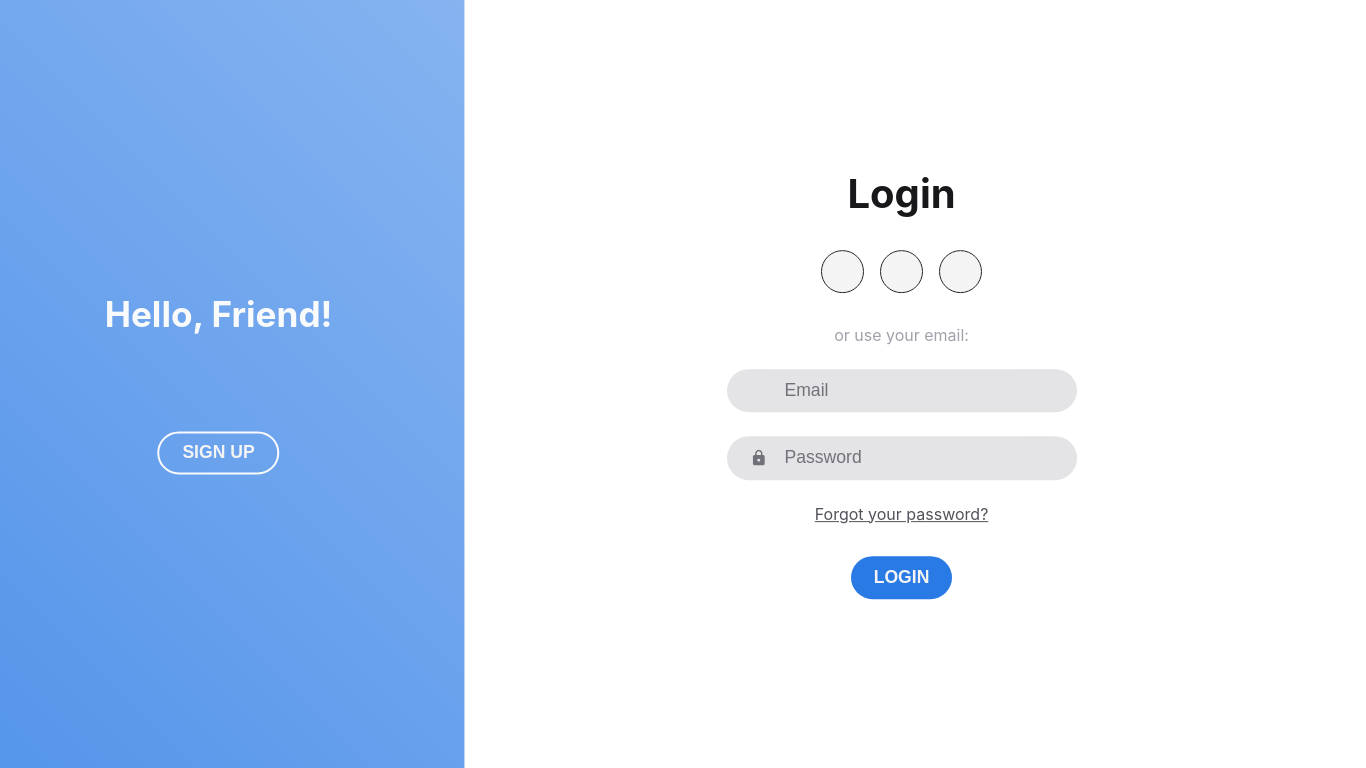
Test: Auth: toggle twice
Click the button "Sign Up" at (219, 453), box [158,431,280,475]
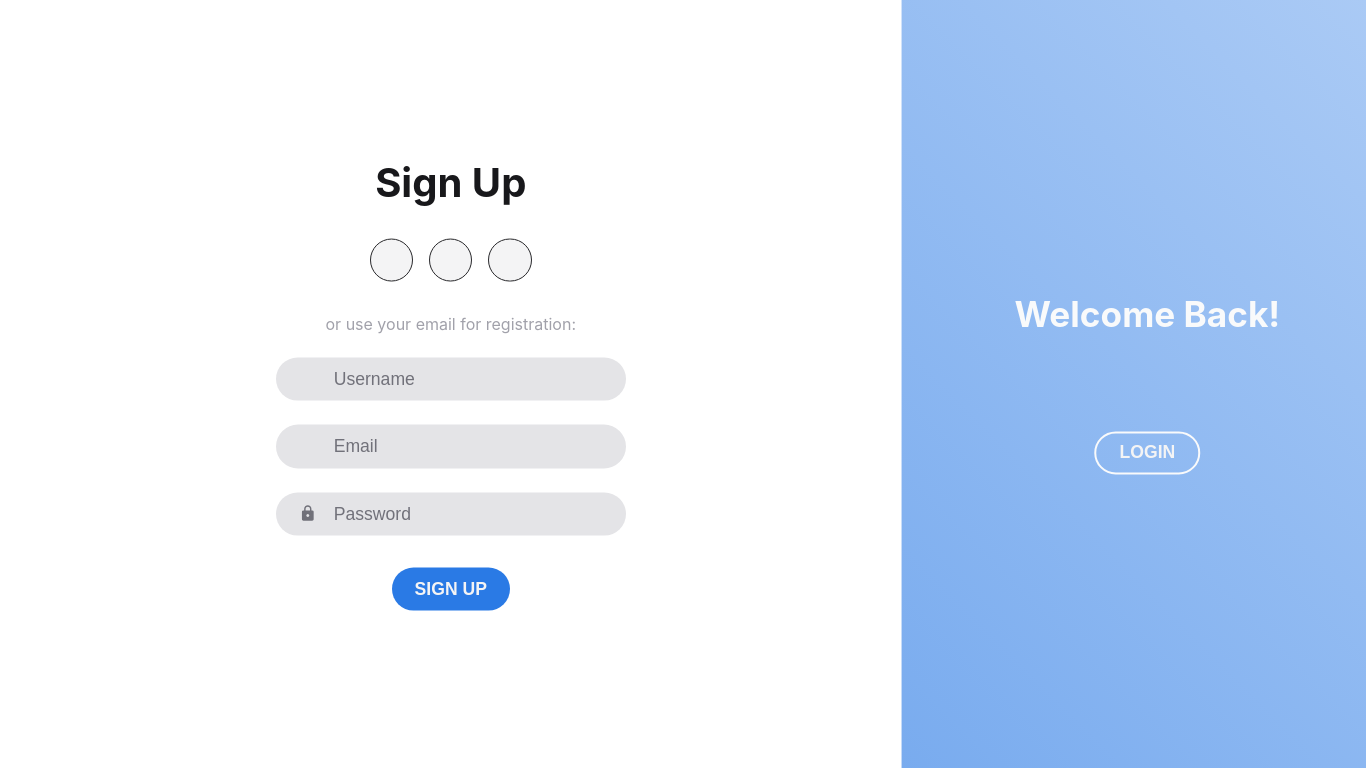
Expected: the heading "Sign Up" is shown, [375,158,526,206]
Click the button "Login" at (1147, 453), box [1095,431,1200,475]
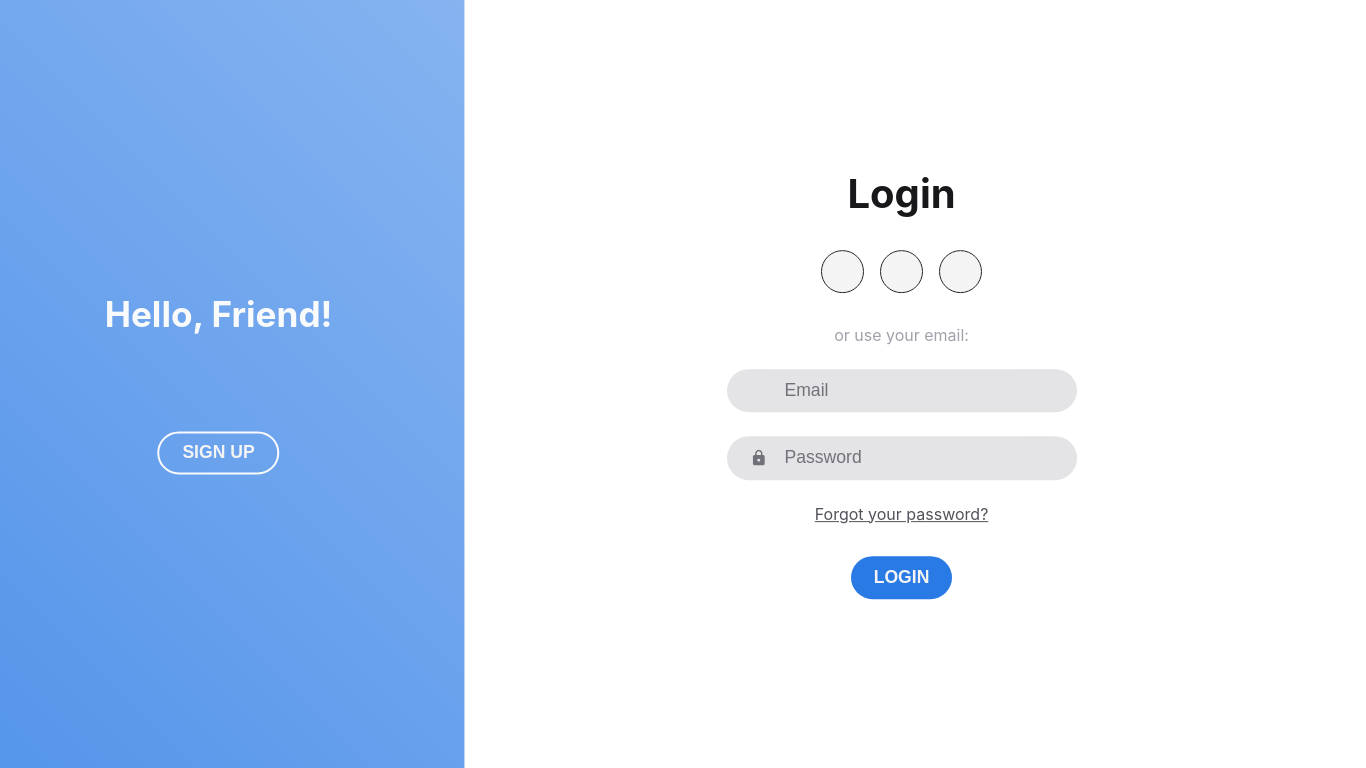
Expected: the heading "Login" is shown, [848,169,956,218]
